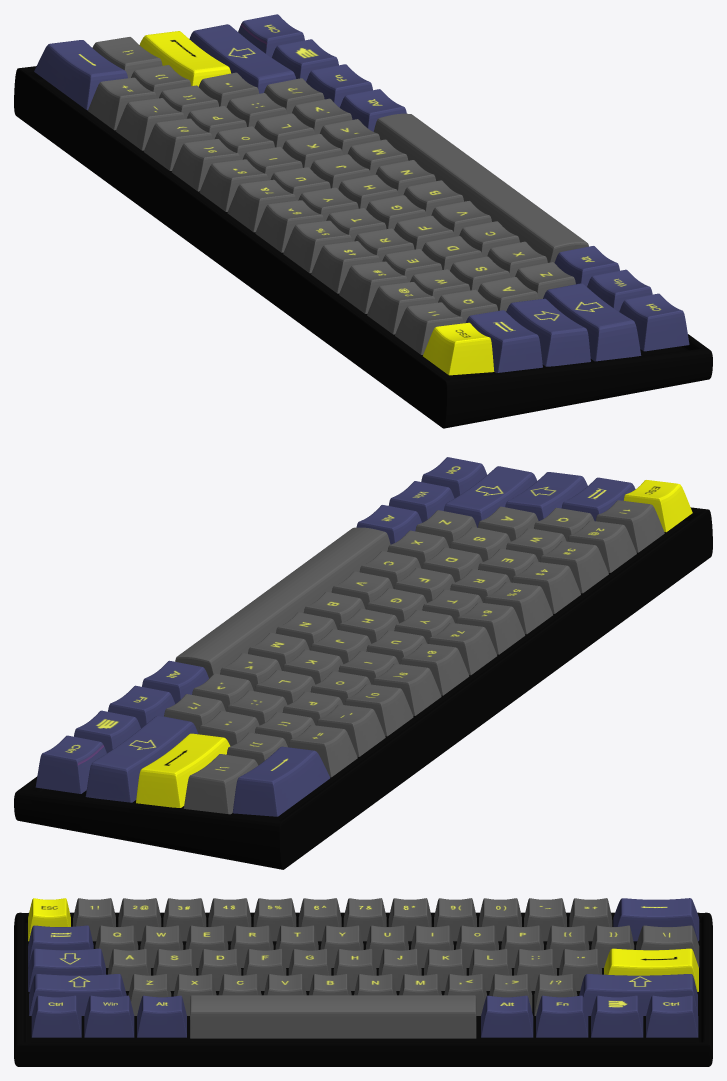
The model's file is 60_Keyboard_1_nightrunner.glb.
3 renders of one model, top to bottom at view 1: azimuth 30°, elevation 25°; view 2: azimuth 150°, elevation 25°; view 3: azimuth 270°, elevation 25°, orthographic. The views are drawn at different scales.
Parts seen in each view (by area): view 1: Plane; view 2: Plane; view 3: Plane.
Part boxes in pixels (<box>): Plane: <box>14,14,712,428</box>; Plane: <box>14,457,712,869</box>; Plane: <box>14,898,712,1066</box>.
Size of the model in its own units: 4.25 by 1.38 by 11.86.
Materials: 2 (1 with a texture image).
